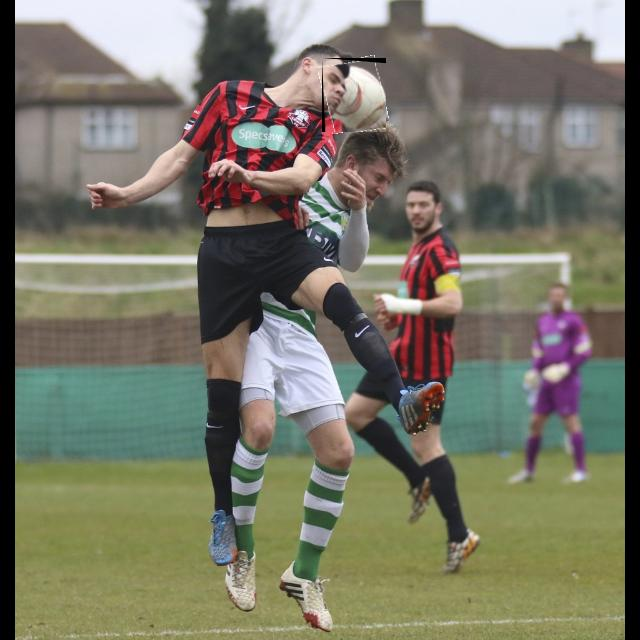Football: (322, 58, 386, 132)
